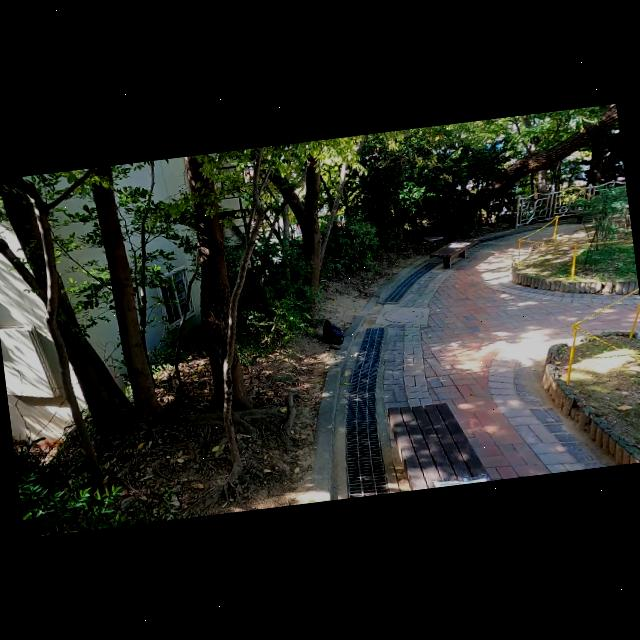trash: (318, 316, 345, 348)
